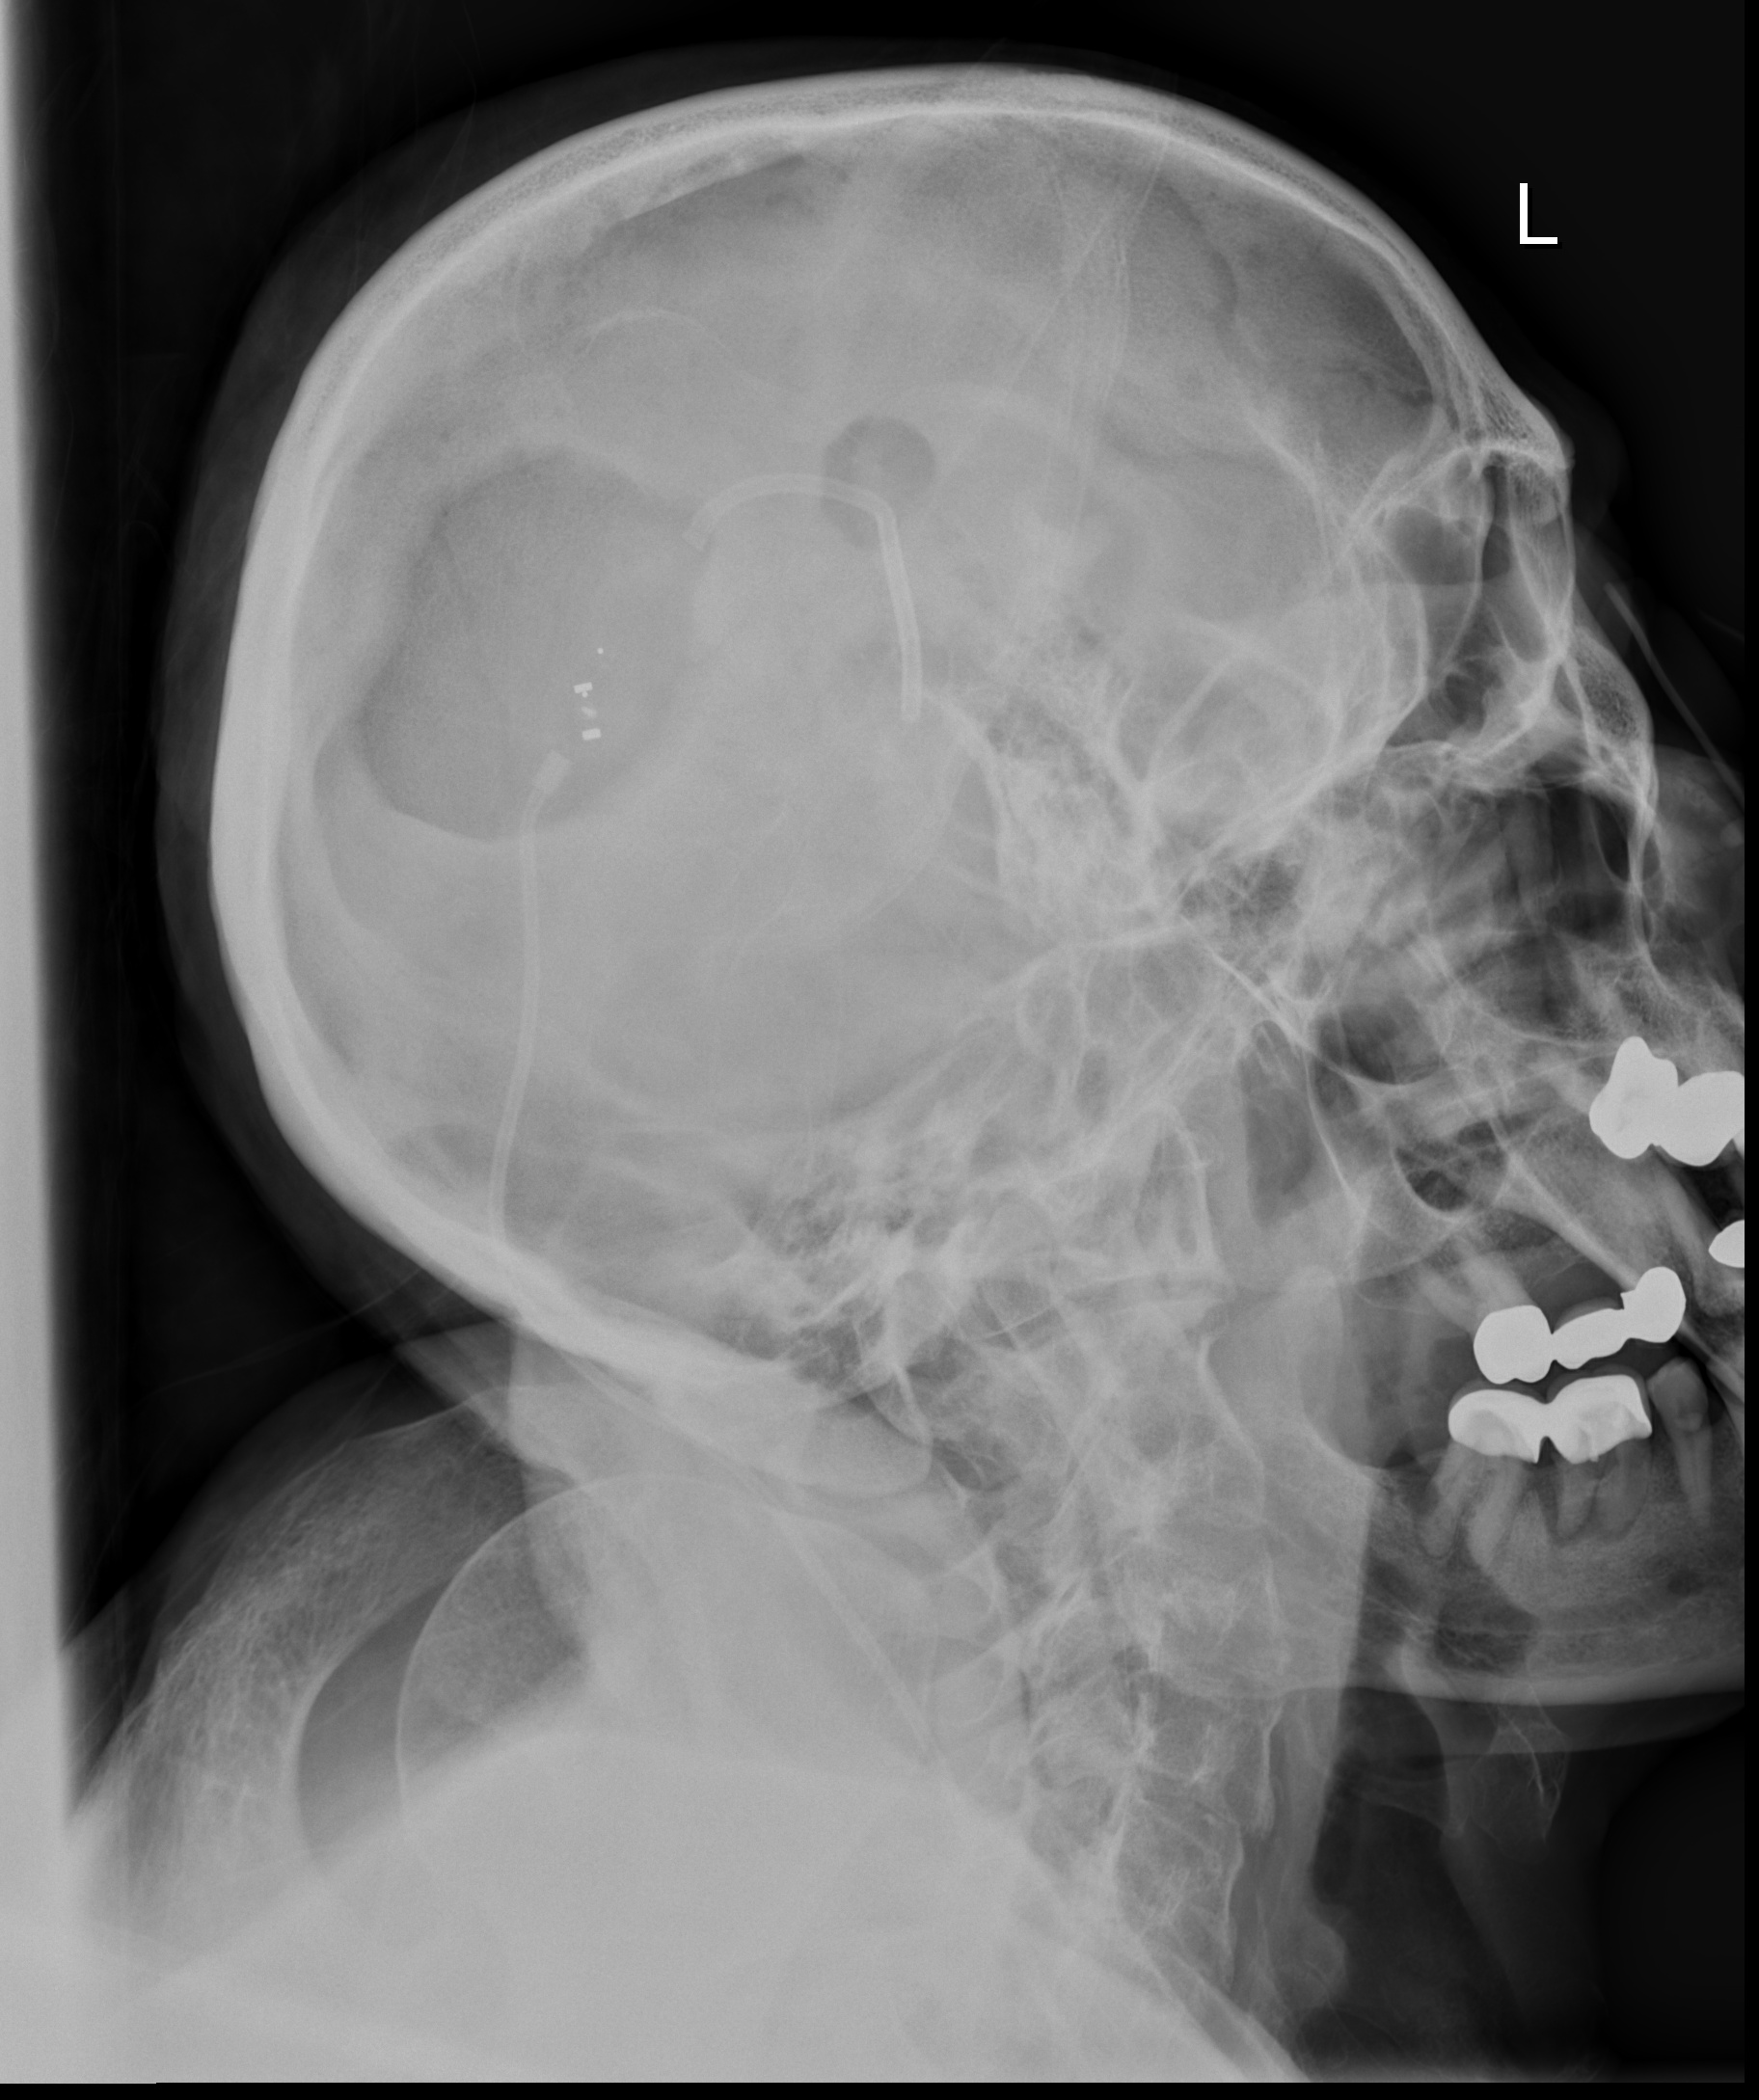Codman Certas: (534, 631, 640, 773)
